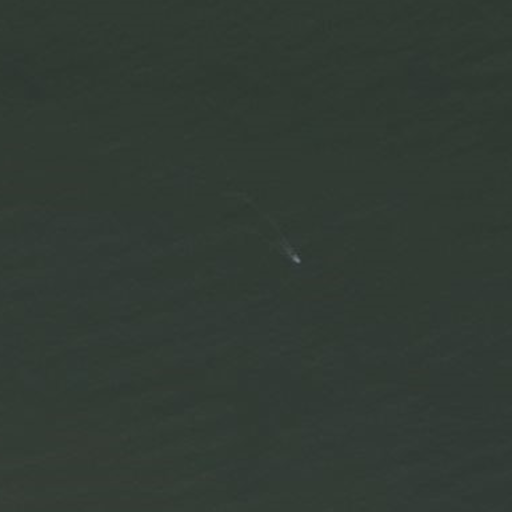ship: (288, 250, 303, 266)
